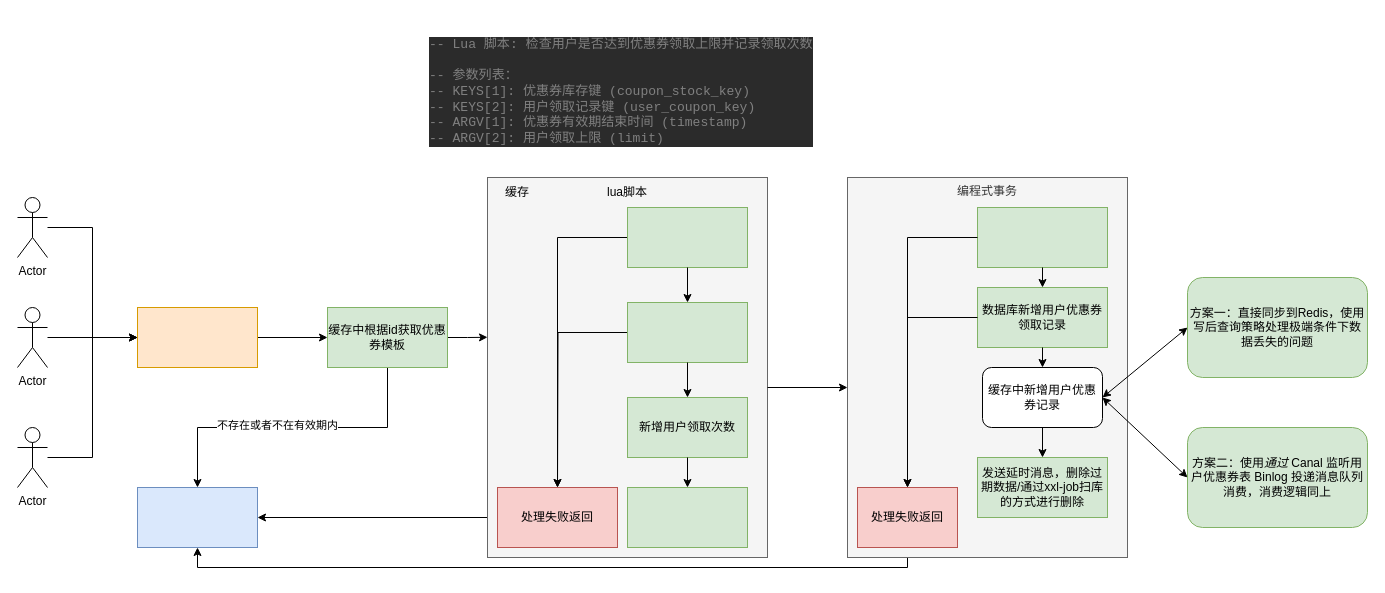
Image size: 1385x593. Some labels were removed from this diagram. Each missing label, with the centre of its shape:
乐观锁扣减数据库库存: [1042,237]
兑换优惠券接口: [197,337]
判断Redis库存: [687,237]
判断用户领取当前优惠券的次数是否过多: [687,332]
扣减库存: [687,517]
流程结束: [197,517]
